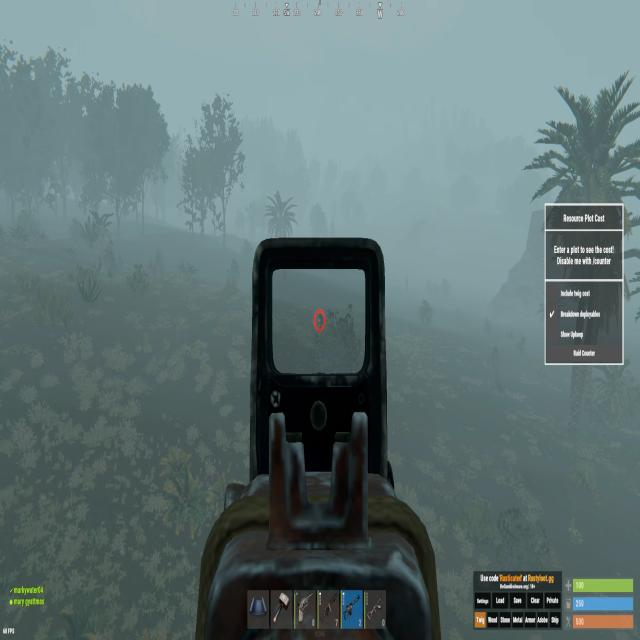Player: (318, 312, 324, 333)
